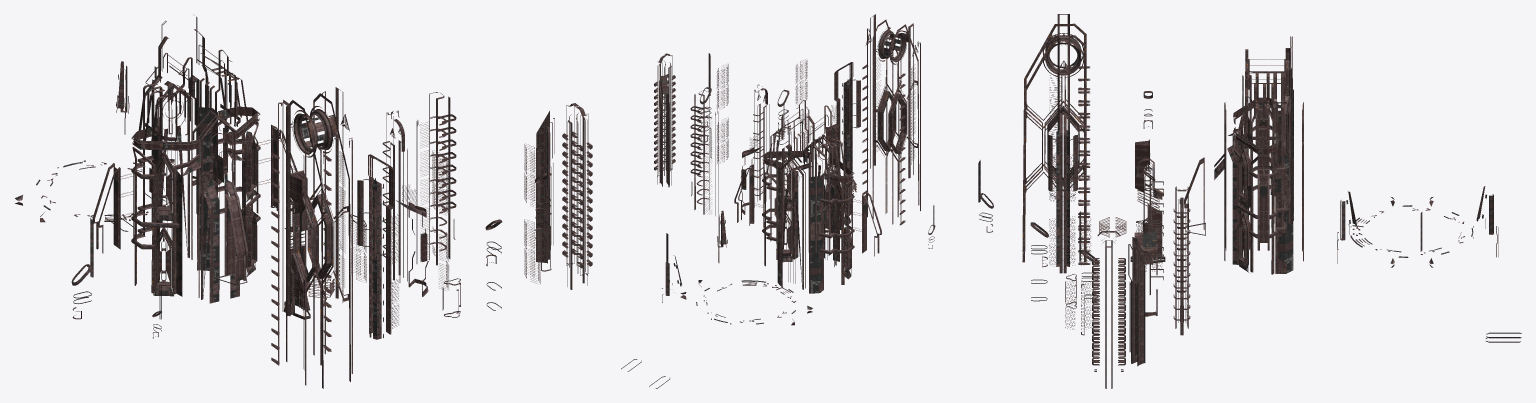
3 renders of one model, left to right at view 1: azimuth 30°, elevation 25°; view 2: azimuth 150°, elevation 25°; view 3: azimuth 270°, elevation 25°, orthographic. The views are drawn at different scales.
Visible parts, largest first — view 1: _gltfNode_5.001; view 2: _gltfNode_5.001; view 3: _gltfNode_5.001.
Boxes of the visible parts, bbox=[...] form: _gltfNode_5.001: bbox=[15, 15, 592, 388]; _gltfNode_5.001: bbox=[621, 14, 993, 388]; _gltfNode_5.001: bbox=[1022, 14, 1521, 388].
Bounding box in the file's own units: 4.41 × 2.86 × 4.55.
Materials: 1 (1 with a texture image).
